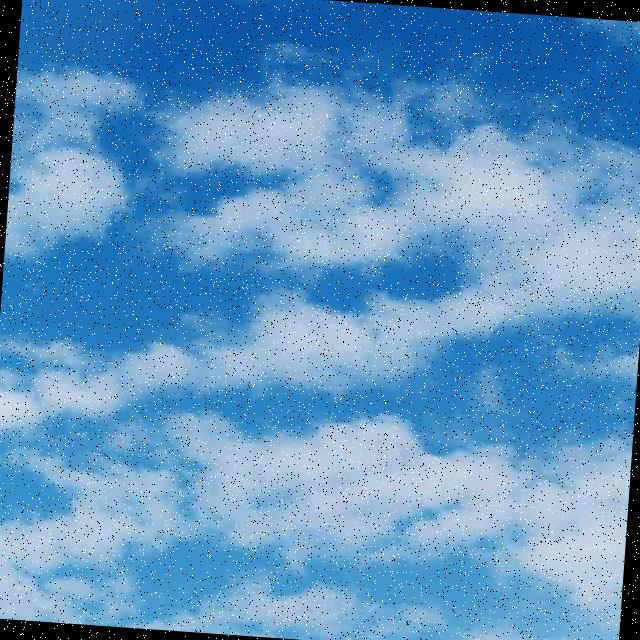Ac: (1, 1, 640, 638)
